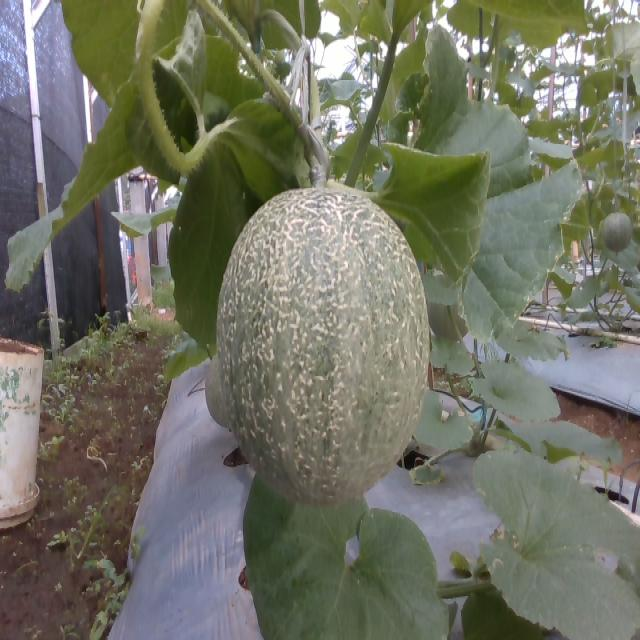melon: (217, 187, 430, 505)
